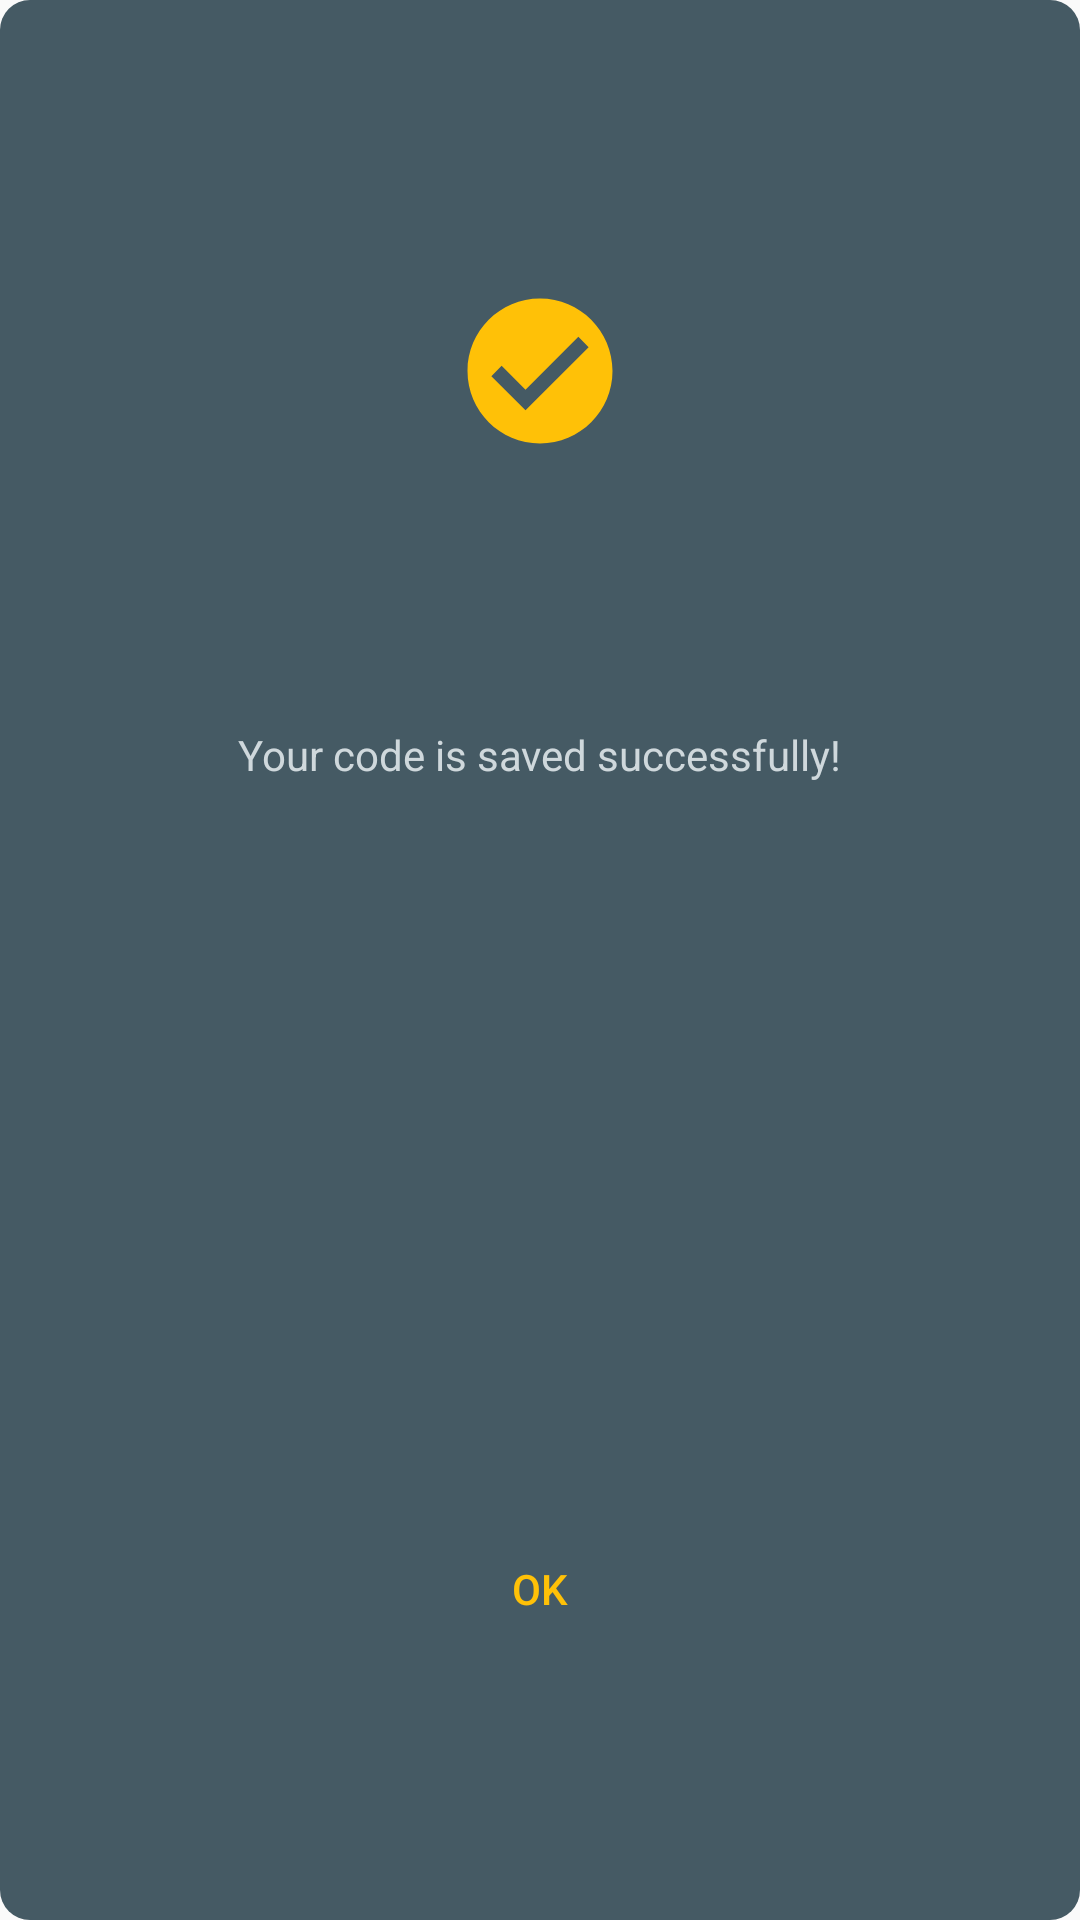

Icons on this 1080 × 1920 Android screen, each with the point to tap as point (x, y):
on success: point (540, 371)
